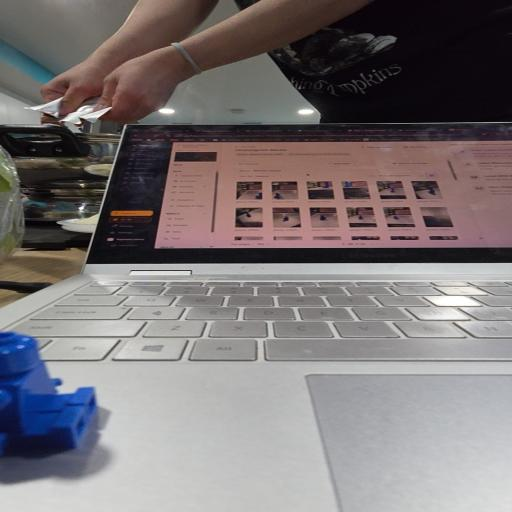Blue: (0, 332, 97, 454)
